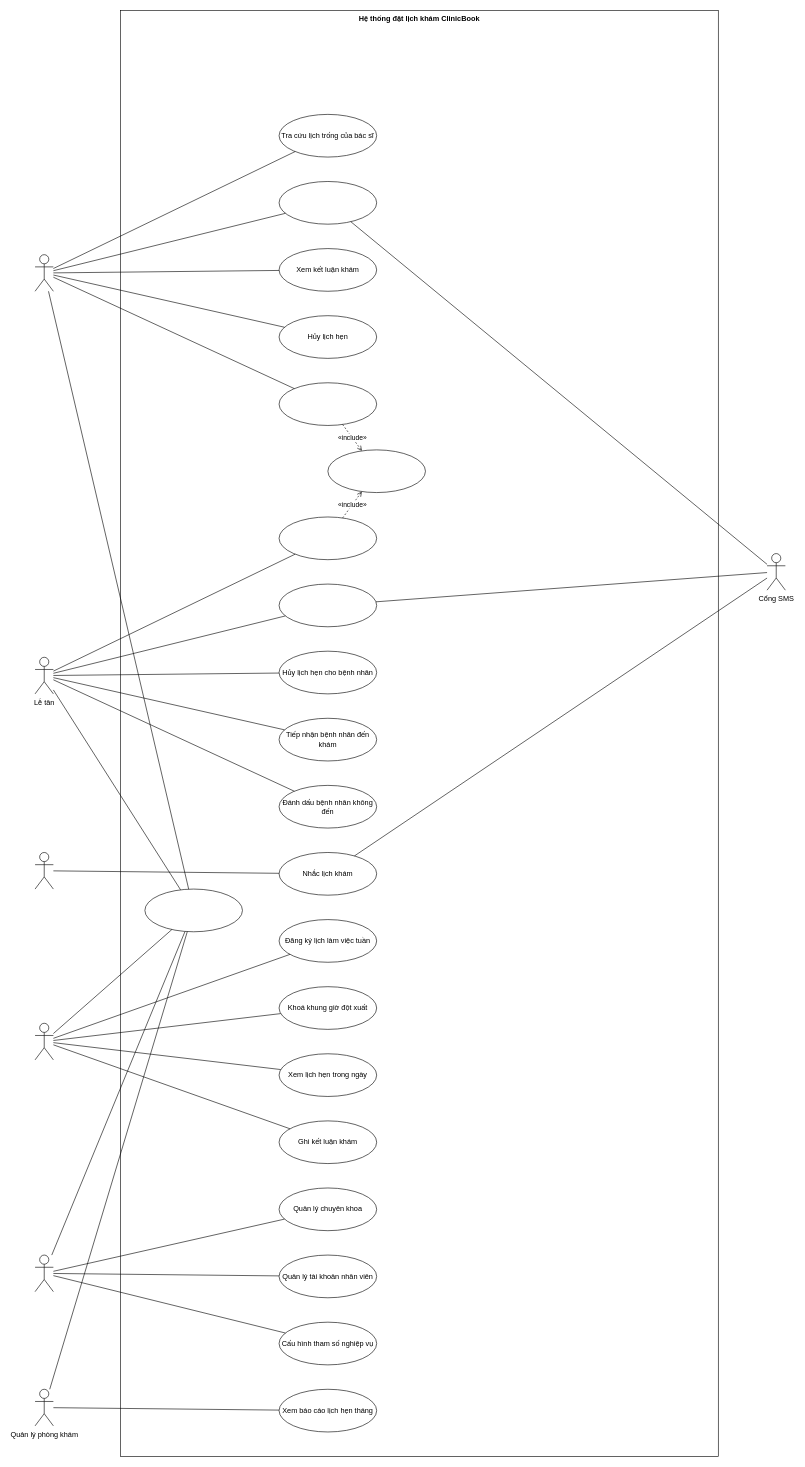
Image size: 805x1467. Some labels were removed from this diagram. Each missing label, with the centre of its shape:
Bác sĩ: (43,1041)
Bệnh nhân: (43,272)
Bộ định thời: (43,870)
Chọn khung giờ khám: (376,471)
Duyệt lịch hẹn: (327,605)
Quản trị viên: (43,1273)
Đăng ký tài khoản: (327,202)
Đăng nhập: (193,910)
Đặt lịch khám: (327,403)
Đặt lịch khám cho bệnh nhân: (327,538)
